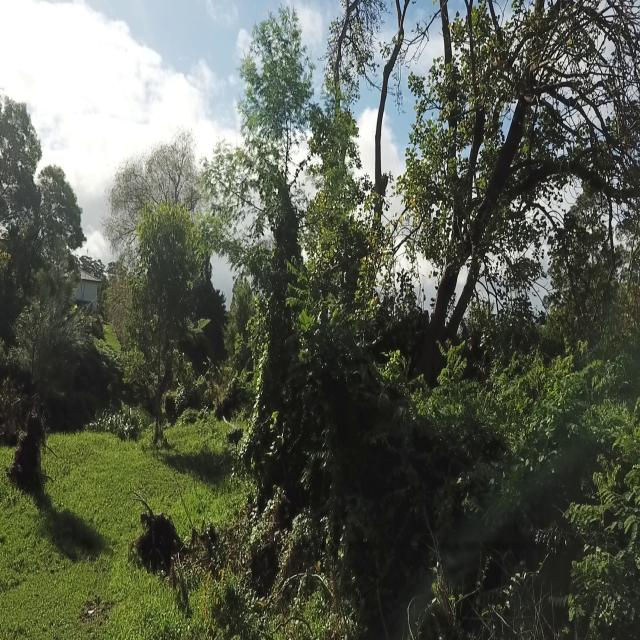Mysore-Thorn-Weed: (562, 476, 640, 640), (544, 351, 596, 433), (435, 334, 470, 432), (499, 358, 534, 432), (606, 393, 640, 463), (284, 251, 318, 312)
